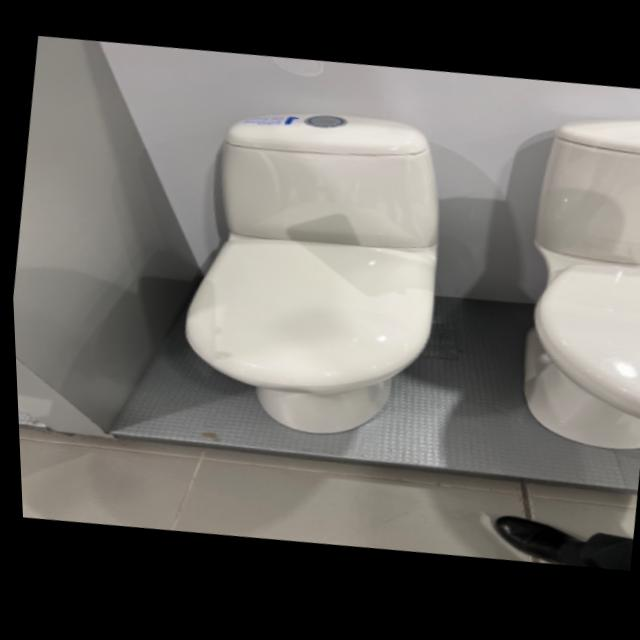toilet: (161, 94, 464, 457), (498, 108, 640, 463)
